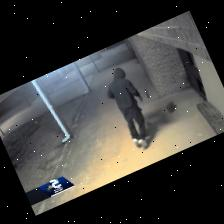person: (107, 68, 147, 149)
